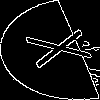X: (25, 25, 100, 69)
